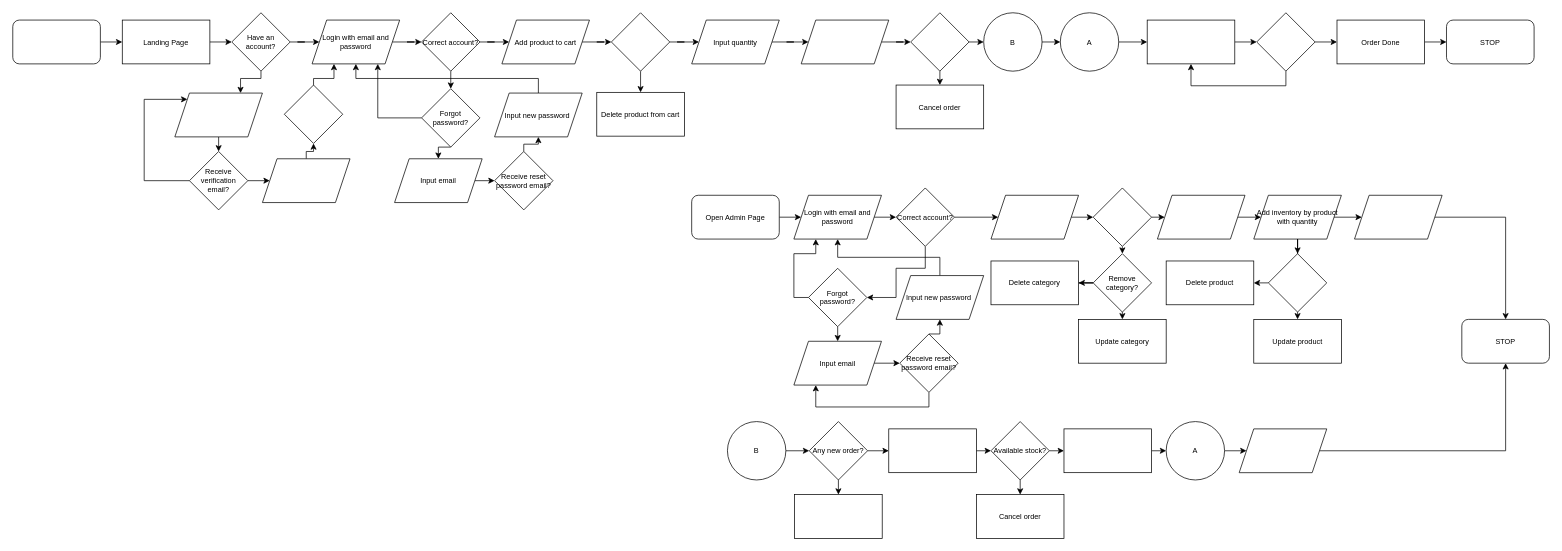
Some shapes in this 1562 by 551 pixel diagram are drawn without their labels. The shapes that lost their labels are listed below. From the top down, each one's centre as x and y in pixels, then its label:
the point at 56,41: Open Inventory App
the point at 640,41: Ready to checkout?
the point at 844,41: Order Created
the point at 939,41: Incorrect order?
the point at 1190,41: Order Processed
the point at 1285,41: Item received?
the point at 218,114: Register with name, email, phone number, and password
the point at 313,113: Correct OTP?
the point at 306,180: Input OTP
the point at 1034,217: Create category
the point at 1122,216: Incorrect category?
the point at 1201,217: Add Product
the point at 1398,217: Report of inventory by product
the point at 1297,282: Remove product?
the point at 932,450: Stock verification
the point at 1107,450: Process order
the point at 1282,450: Report of order
the point at 838,516: Check order
